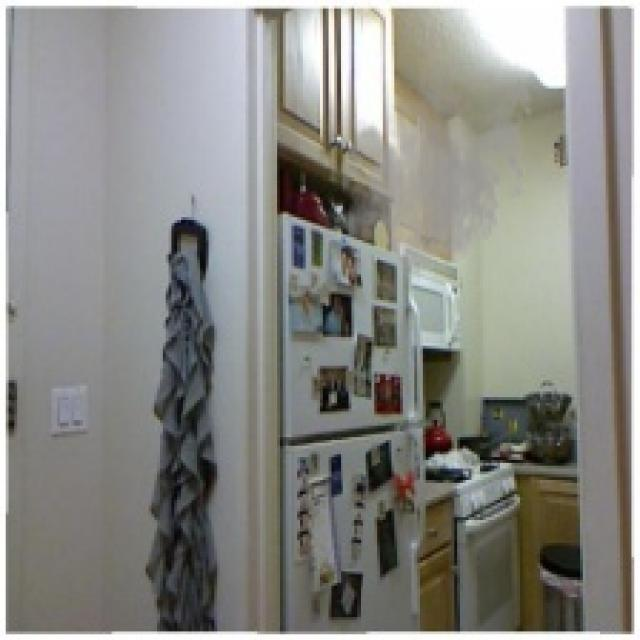smoke: (326, 40, 537, 289)
